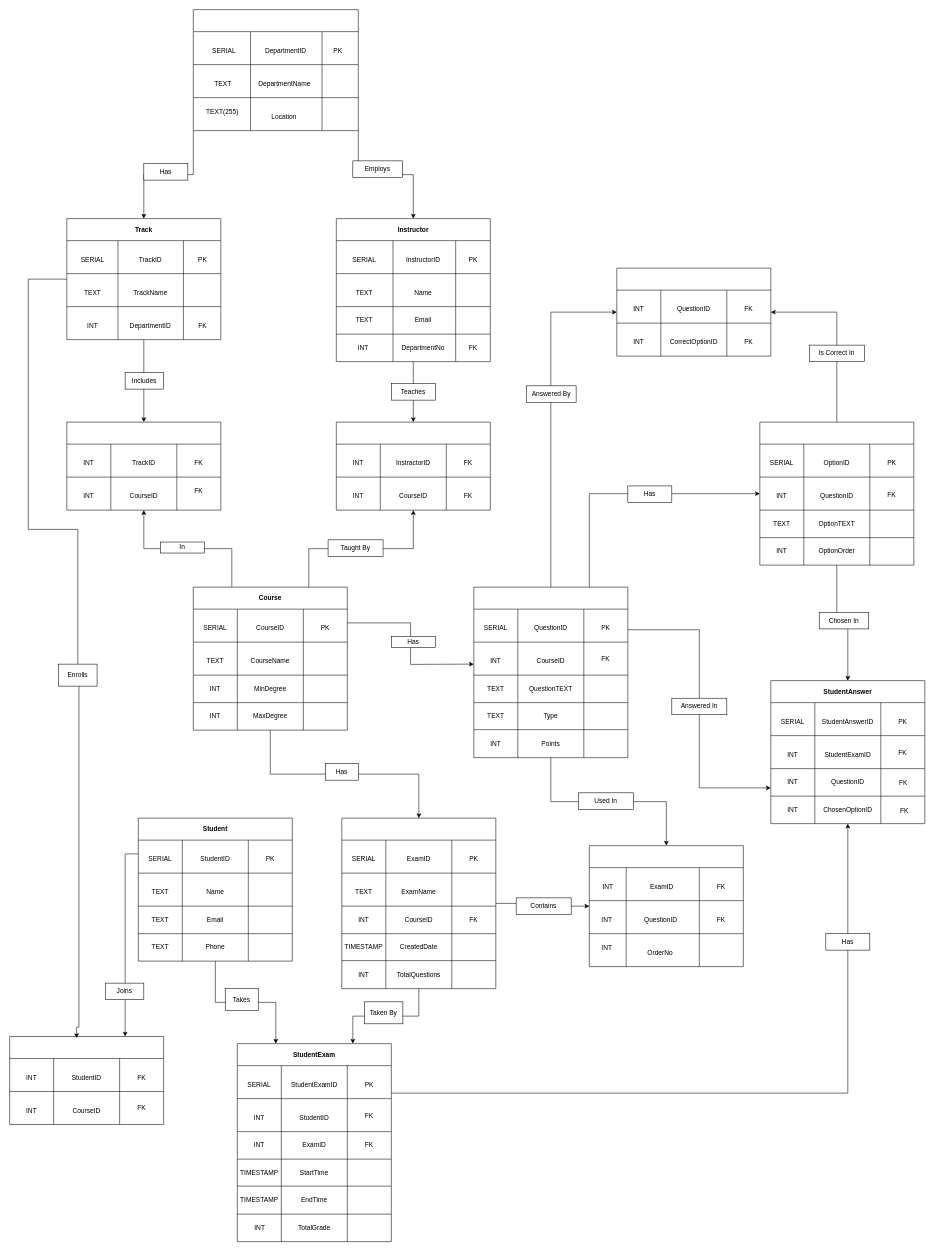
Some shapes in this 935 by 1252 pixel diagram are drawn without their labels. Here are the shapes that lost their labels. From the top down, the box of each, then its label:
(193, 9, 358, 131): Departments
(616, 268, 771, 356): ModelAnswer
(66, 422, 221, 510): TrackCourse
(336, 422, 490, 510): InstractorCourse
(759, 422, 914, 565): Choice
(473, 587, 628, 758): Questions
(341, 818, 496, 989): Exams
(589, 845, 743, 967): ExamQuestion
(9, 1036, 164, 1124): StudentTrack
